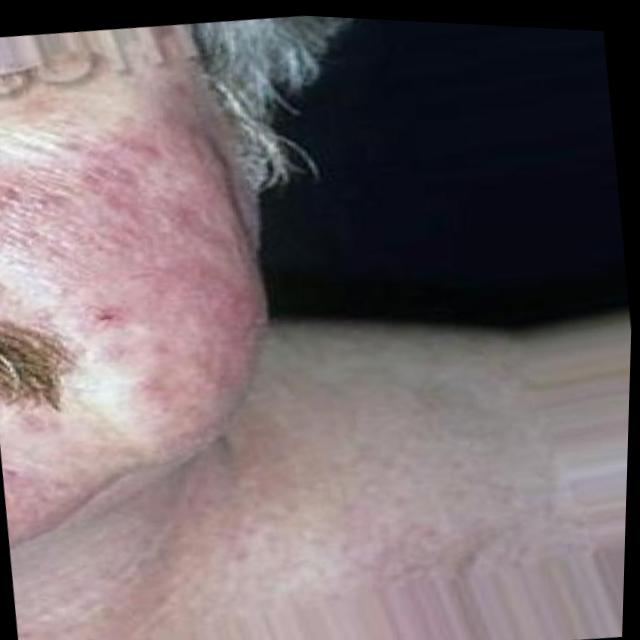Rosacea: (0, 121, 279, 410)
